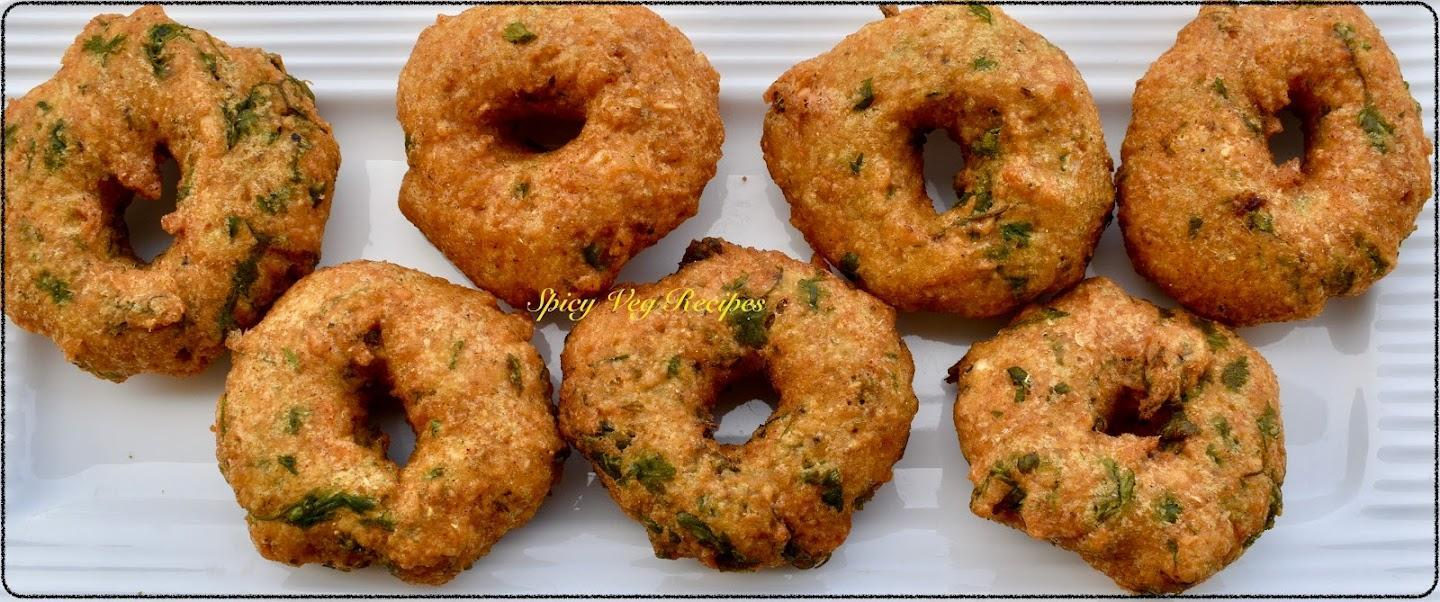mvada: (781, 9, 1440, 321), (0, 41, 343, 386)
